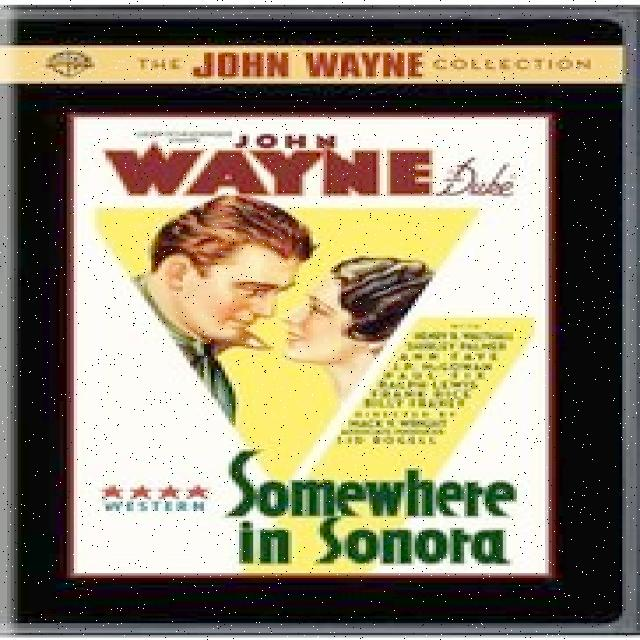movie-judul: (223, 448, 520, 569)
picture: (95, 193, 478, 478)
